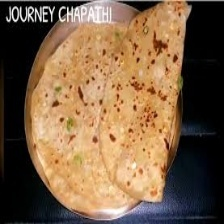roti: (26, 0, 190, 212)
